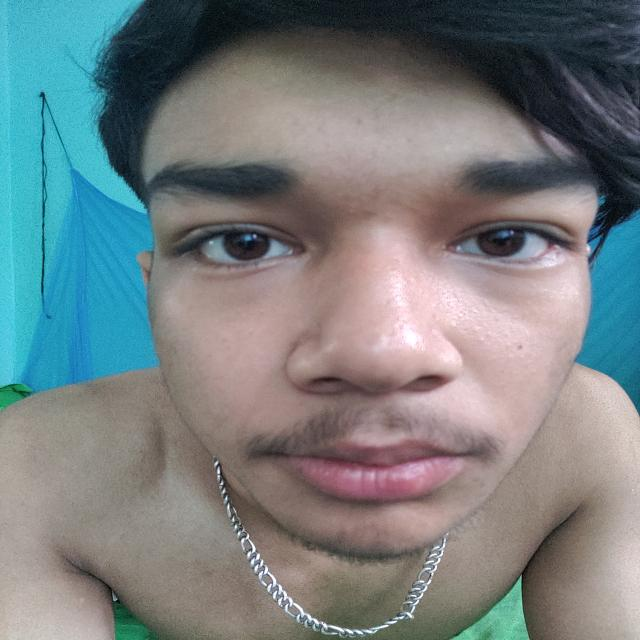Acne: (346, 208, 381, 221), (338, 190, 354, 200)
Blackheads: (434, 286, 482, 328)
